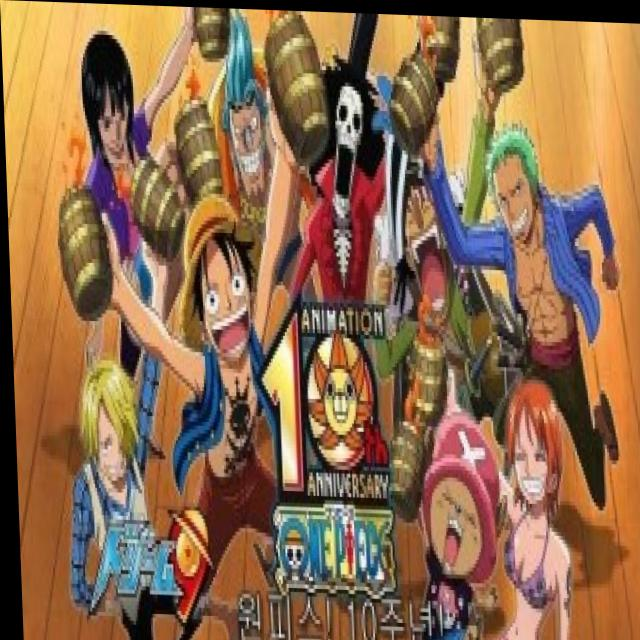Blook: (304, 9, 391, 225)
Chyopa: (409, 422, 491, 603)
Franky: (214, 6, 272, 198)
Luffy: (160, 182, 262, 382)
Nami: (495, 376, 561, 525)
NicoRobin: (73, 15, 142, 177)
Sangdi: (70, 353, 143, 490)
Usopp: (393, 156, 453, 318)
Zoro: (483, 121, 545, 261)
